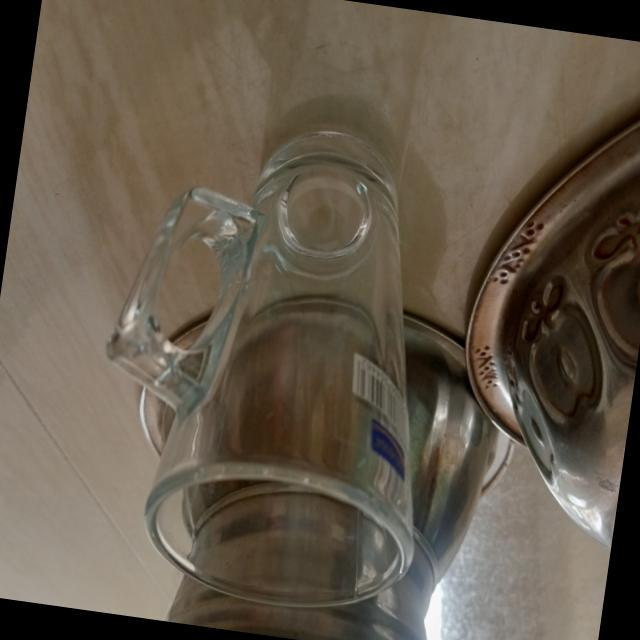glass-VX4N: (73, 102, 470, 622)
